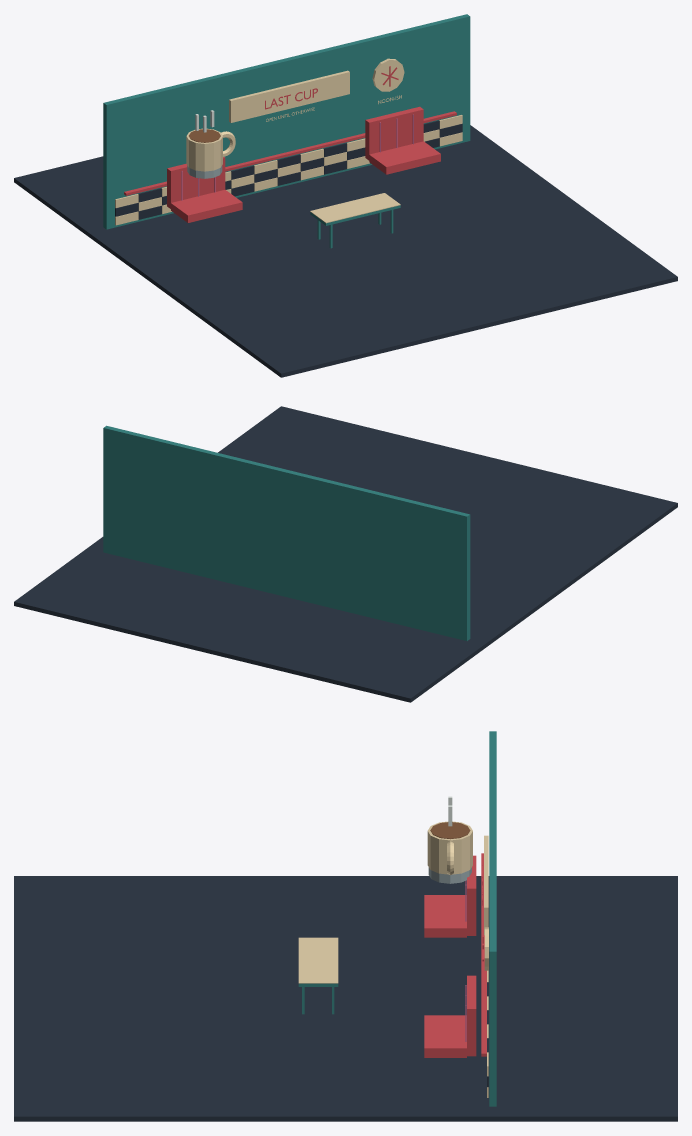
File: theatre-diner.glb
3 renders of one model, top to bottom at view 1: azimuth 30°, elevation 25°; view 2: azimuth 150°, elevation 25°; view 3: azimuth 270°, elevation 25°, orthographic. The views are drawn at different scales.
Visible parts, largest first — view 1: Floor, BG_Wall, BG_Sign, BG_BoothBack.001, BG_BoothSeat.001, BG_BoothSeat, BG_BoothBack, Table_top, BG_ImpossibleCup, BG_Rail, BG_Clock; view 2: Floor, BG_Wall; view 3: Floor, BG_Wall, Table_top, BG_BoothSeat, BG_BoothSeat.001, BG_ImpossibleCup, BG_Rail, BG_BoothBack.001, BG_BoothBack.
Part boxes in pixels (left/top/right/bottom): Floor: left=14, top=125, right=677, bottom=377; BG_Wall: left=103, top=14, right=470, bottom=229; BG_Sign: left=229, top=70, right=349, bottom=122; BG_BoothBack.001: left=365, top=106, right=423, bottom=160; BG_BoothSeat.001: left=369, top=141, right=440, bottom=174; BG_BoothSeat: left=171, top=189, right=242, bottom=222; BG_BoothBack: left=167, top=157, right=225, bottom=208; Table_top: left=310, top=193, right=400, bottom=223; BG_ImpossibleCup: left=186, top=128, right=222, bottom=171; BG_Rail: left=124, top=111, right=456, bottom=195; BG_Clock: left=372, top=58, right=404, bottom=91; Floor: left=14, top=406, right=677, bottom=702; BG_Wall: left=103, top=425, right=470, bottom=640; Floor: left=14, top=876, right=677, bottom=1121; BG_Wall: left=489, top=731, right=496, bottom=1106; Table_top: left=298, top=937, right=338, bottom=983; BG_BoothSeat: left=424, top=895, right=466, bottom=937; BG_BoothSeat.001: left=424, top=1015, right=466, bottom=1057; BG_ImpossibleCup: left=427, top=821, right=472, bottom=874; BG_Rail: left=481, top=853, right=486, bottom=1056; BG_BoothBack.001: left=467, top=975, right=476, bottom=1056; BG_BoothBack: left=467, top=855, right=476, bottom=935.
Size of the model in its own units: 12 by 3.72 by 14.
